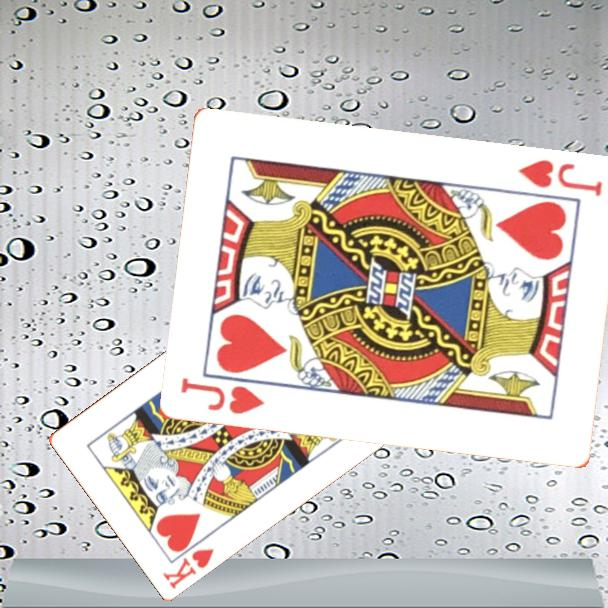h11: (514, 156, 605, 200), (177, 374, 267, 418)
h13: (159, 544, 217, 592)
